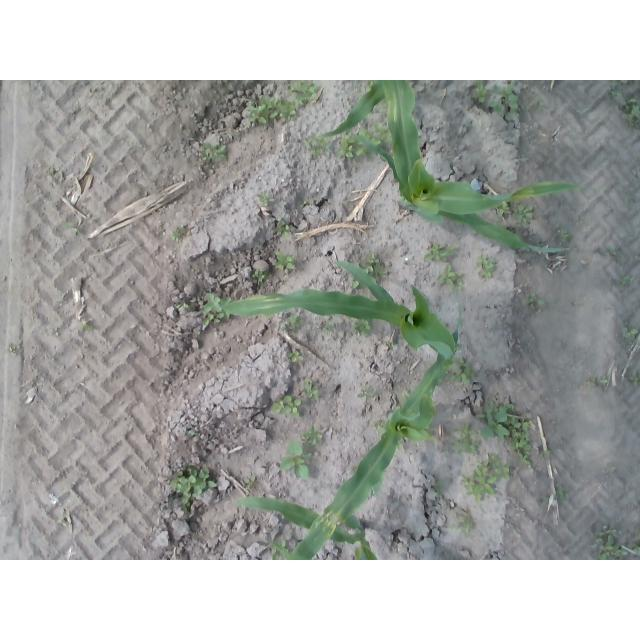Maize: (264, 329, 458, 559), (351, 81, 587, 253), (221, 259, 456, 361), (234, 497, 380, 560), (319, 81, 385, 141)
Weeds: (477, 397, 534, 468), (249, 80, 319, 124), (460, 452, 512, 502), (168, 465, 216, 512), (471, 80, 522, 120), (590, 528, 640, 560), (609, 80, 640, 128), (279, 439, 312, 482), (200, 294, 233, 327), (453, 422, 481, 458), (304, 131, 333, 161), (424, 240, 460, 264), (270, 396, 302, 419), (449, 507, 476, 534), (436, 264, 464, 290), (202, 143, 230, 169), (451, 360, 475, 388), (478, 253, 501, 282), (359, 130, 382, 159), (367, 253, 390, 281), (339, 133, 357, 160), (273, 250, 296, 271), (523, 290, 546, 310), (304, 425, 325, 446), (514, 202, 535, 222), (352, 318, 373, 338), (301, 381, 321, 402), (273, 219, 295, 238), (586, 376, 611, 392), (283, 313, 305, 330), (435, 474, 448, 502), (376, 122, 393, 142), (623, 321, 638, 342), (356, 385, 376, 399), (62, 222, 78, 238), (257, 193, 275, 207), (288, 350, 304, 364), (80, 319, 95, 333), (175, 299, 194, 310), (620, 275, 633, 290), (252, 269, 267, 282), (316, 322, 332, 334), (243, 475, 259, 487), (498, 203, 511, 217), (44, 166, 58, 179), (560, 230, 573, 243), (609, 244, 621, 258), (627, 371, 639, 385), (556, 485, 567, 500), (173, 230, 183, 246), (386, 342, 402, 352), (540, 448, 553, 460), (535, 96, 545, 109), (573, 300, 587, 308), (9, 345, 19, 355), (373, 420, 384, 428), (272, 551, 281, 560), (576, 217, 584, 227), (352, 282, 362, 290), (188, 429, 197, 437), (541, 497, 551, 504), (561, 339, 568, 349), (367, 81, 374, 88), (606, 304, 614, 310), (634, 255, 640, 261), (282, 541, 287, 548)
